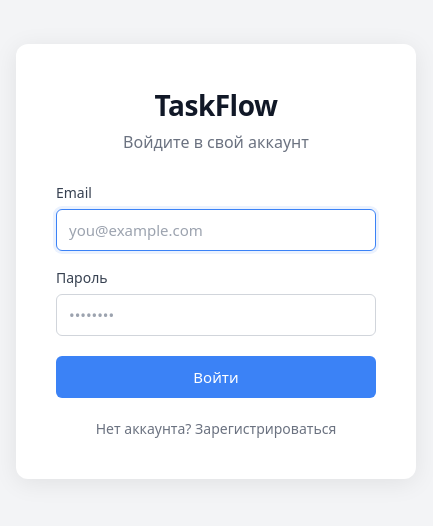
Test: LoginForm — валидация › показывает ошибку при пустом пароле
Type "test@example.com" into the field labelled "Email". click: (216, 230)
box: [56, 208, 376, 250]
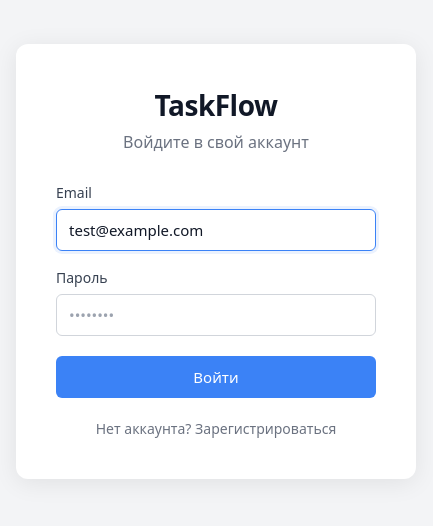
Click the button "Войти". click: (216, 376)
box: [56, 356, 376, 398]
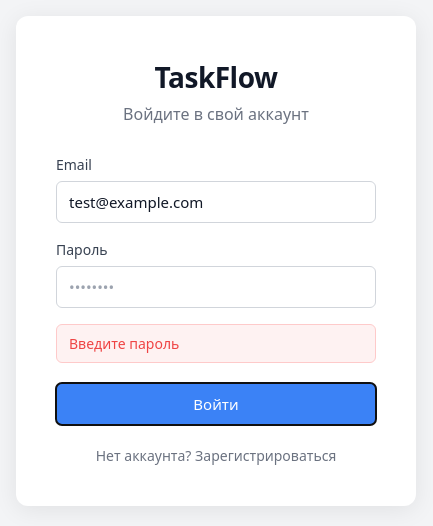
Expected: the message reads "Введите пароль", [69, 334, 179, 353]
